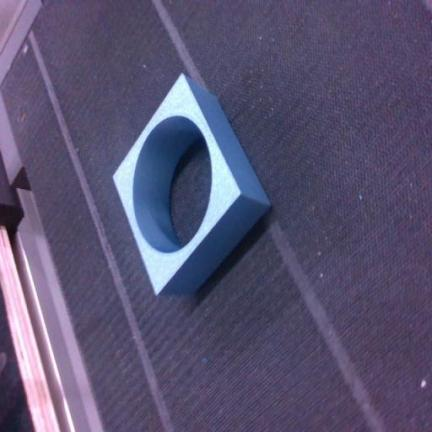square: (113, 74, 269, 294)
